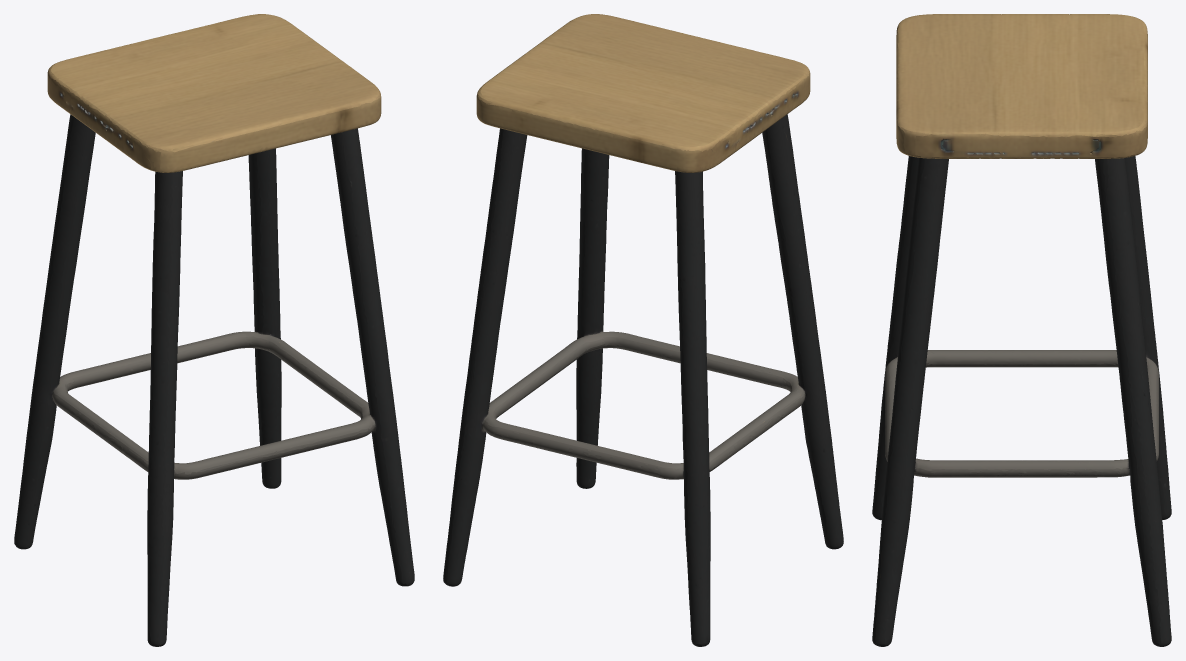
File: item_a37cbc25.glb
3 renders of one model, left to right at view 1: azimuth 30°, elevation 25°; view 2: azimuth 150°, elevation 25°; view 3: azimuth 270°, elevation 25°, orthographic. The views are drawn at different scales.
Parts seen in each view (by area): view 1: world; view 2: world; view 3: world.
Boxes of the visible parts, box(x1,y1,x2,y2) form: world: box(14, 14, 414, 646); world: box(443, 14, 843, 646); world: box(872, 14, 1171, 646).
Bounding box in the file's own units: 0.4275 × 0.75 × 0.3994.
1 material, 1 textured.
